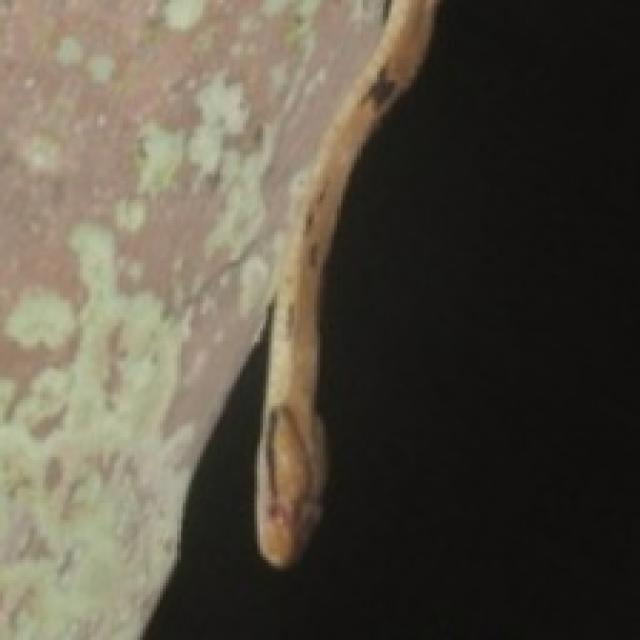dog-toothed cat snake: (257, 0, 434, 566)
